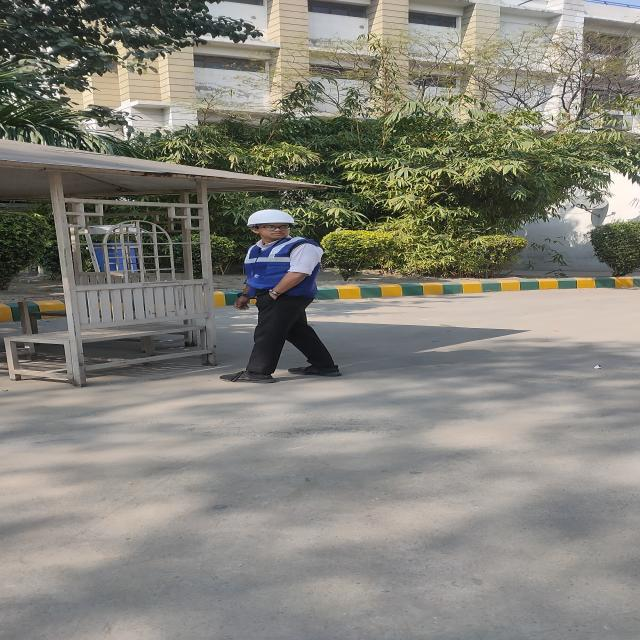safe: (243, 210, 324, 383)
